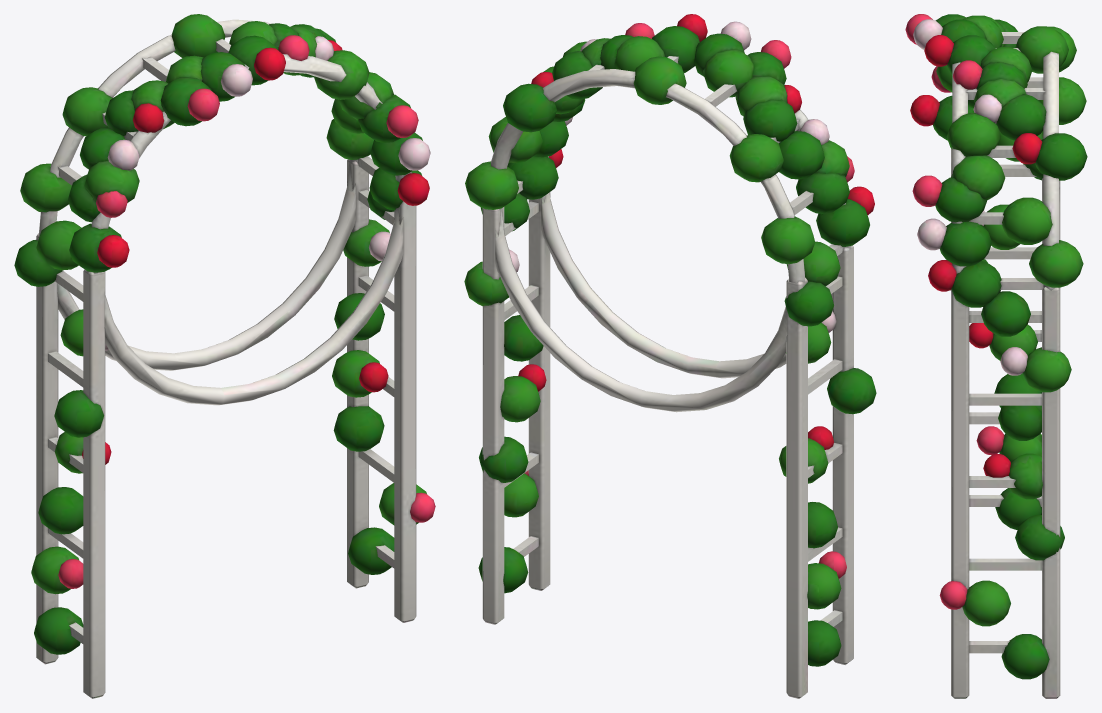
The model's file is flower_arch.glb.
3 views of the same model, side by side, from view 1: azimuth 30°, elevation 25°; view 2: azimuth 150°, elevation 25°; view 3: azimuth 270°, elevation 25° (orthographic). The views are drawn at different scales.
Visible parts, largest first — view 1: flower_arch; view 2: flower_arch; view 3: flower_arch.
Boxes of the visible parts, bbox=[...] form: flower_arch: bbox=[14, 14, 435, 698]; flower_arch: bbox=[464, 14, 876, 698]; flower_arch: bbox=[905, 14, 1087, 698].
Size of the model in its own units: 0.9237 by 1.43 by 0.4.
1 material, 1 textured.
